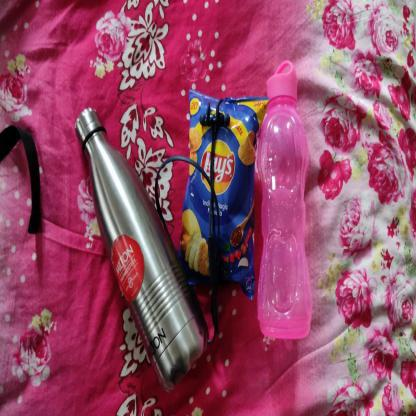indian_magic_masala: (179, 90, 269, 298)
